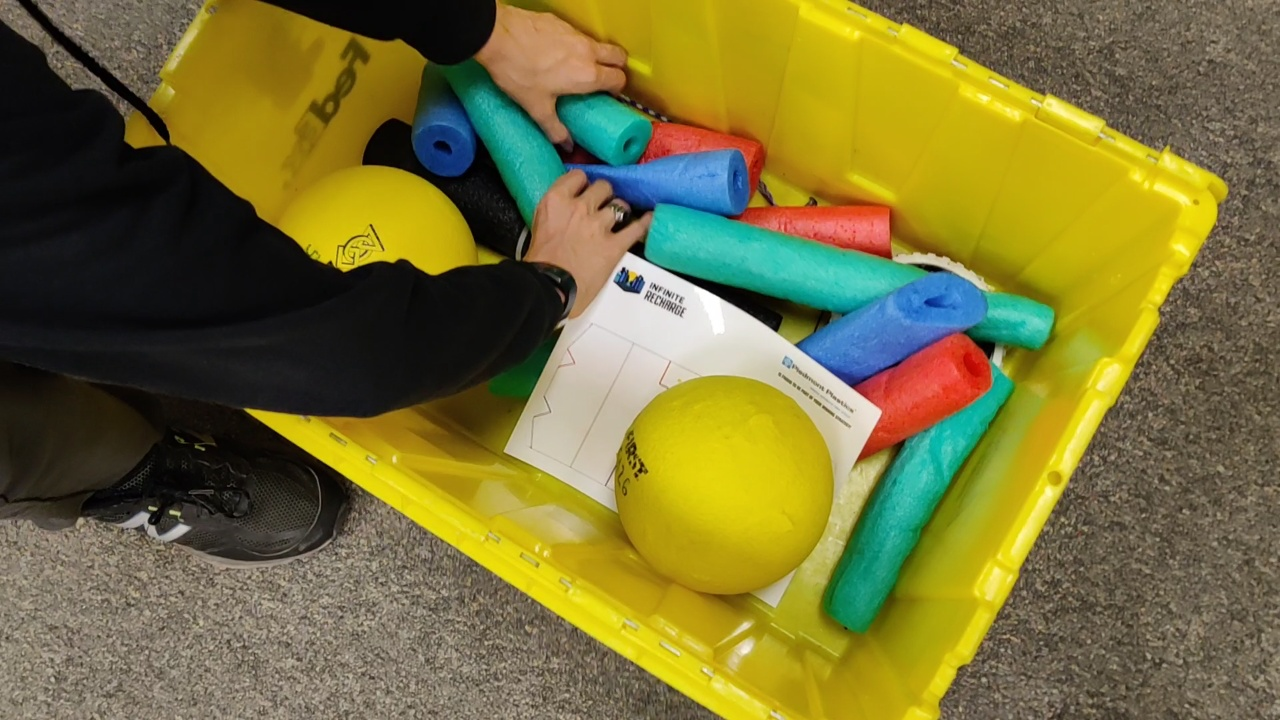Ball: (617, 374, 832, 594), (267, 160, 478, 274)
